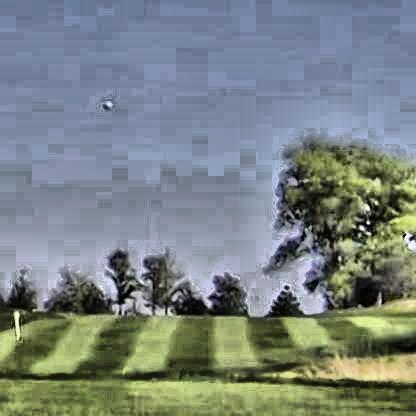golfball: (99, 99, 109, 107)
